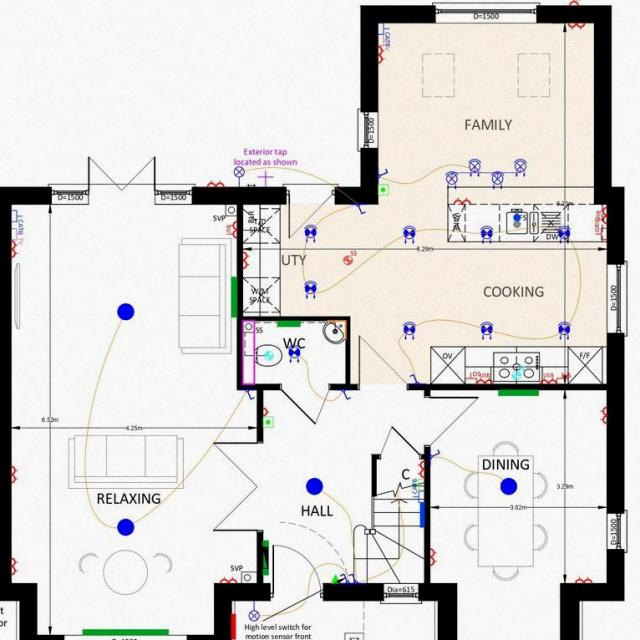BT Entry Point: (330, 574, 340, 582)
Cat 6 Data Socket: (11, 209, 22, 233), (412, 478, 423, 501), (378, 22, 388, 46)
Ceiling Mounted Continuous Extract FanWith Boost Mode Activated By Light Switch: (264, 350, 272, 360)
Ceiling Mounted Continuous Extract FanWith Local Boost Switch: (342, 250, 356, 265)
Co-Ax TV Socket: (11, 226, 22, 244), (378, 34, 388, 48)
Consumer Unit: (262, 546, 268, 568)
Double Socket: (453, 195, 469, 204), (598, 406, 606, 424), (416, 460, 424, 477), (10, 465, 18, 482), (566, 22, 584, 29), (206, 179, 223, 186), (430, 547, 436, 566), (575, 575, 591, 582), (378, 45, 384, 63), (242, 251, 248, 268), (219, 576, 236, 582), (11, 557, 17, 574), (11, 240, 17, 257)
Electric Meter Box: (230, 613, 236, 639)
External Wall Light: (248, 600, 259, 621), (233, 166, 244, 186)
Grid Switch: (593, 217, 606, 239)
Hob Switch: (556, 372, 570, 382)
Light Switch: (354, 203, 366, 214), (244, 390, 255, 400), (341, 390, 351, 400), (378, 168, 388, 178), (430, 448, 440, 458), (348, 572, 358, 582), (408, 373, 418, 382), (339, 572, 348, 582)
Low Energy Downlighter: (556, 225, 570, 243), (479, 321, 493, 339), (287, 343, 300, 362), (303, 224, 317, 241), (402, 225, 415, 243), (480, 225, 493, 243), (402, 321, 415, 339), (557, 321, 570, 339), (304, 280, 316, 298)
Low Energy Pendant Light: (304, 476, 323, 495), (115, 302, 134, 319), (499, 476, 516, 495), (116, 518, 134, 535)
Outside Socket: (568, 0, 581, 4)
Outside Tap: (256, 170, 272, 186)
Oven Switch: (464, 371, 478, 383)
Programmable Room Thermostat: (262, 415, 274, 426), (377, 183, 388, 194)
Radiator: (82, 628, 168, 634), (497, 389, 538, 395), (230, 276, 236, 316), (262, 540, 268, 575), (277, 320, 299, 327)
Single Socket: (262, 407, 269, 415)
Telephone Socket: (412, 478, 424, 490)
Track Light: (444, 157, 526, 188)
USB Double Socket: (595, 206, 606, 223), (225, 220, 236, 236), (539, 372, 556, 382), (476, 372, 492, 382)
Underfloor Heating Manifold: (419, 502, 424, 528)
Water Entry Position: (512, 213, 520, 221)
